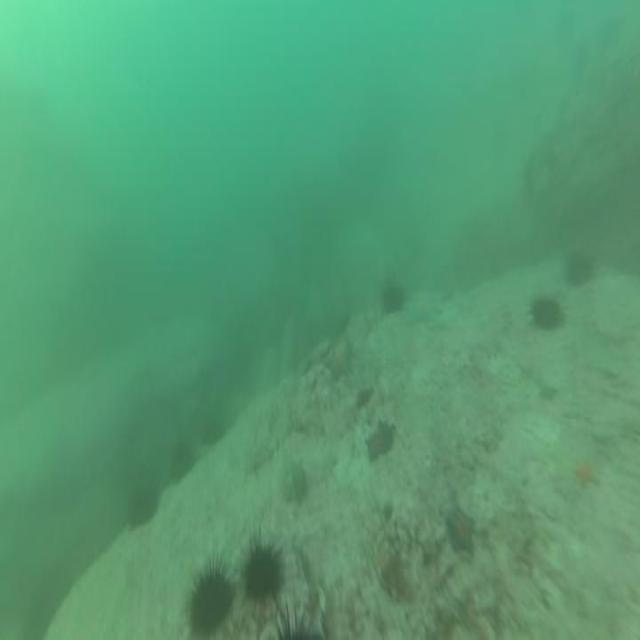echinus: (183, 551, 235, 640), (238, 526, 286, 616), (266, 605, 329, 640), (124, 482, 161, 531), (528, 291, 565, 335), (564, 247, 598, 290), (166, 444, 196, 487), (380, 278, 406, 318), (199, 417, 228, 452)
starfish: (443, 500, 478, 560), (362, 412, 399, 468), (322, 346, 356, 386), (571, 452, 598, 493), (353, 379, 376, 414), (534, 379, 561, 408)
